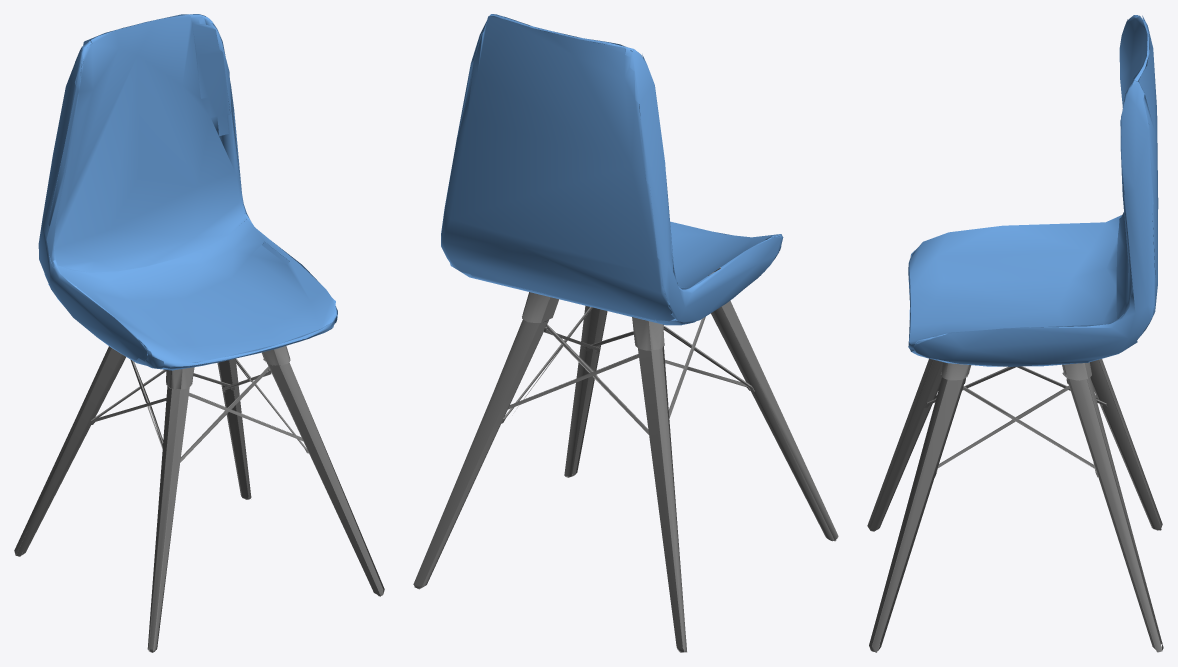
File: chair.glb
3 renders of one model, left to right at view 1: azimuth 30°, elevation 25°; view 2: azimuth 150°, elevation 25°; view 3: azimuth 270°, elevation 25°, orthographic. The views are drawn at different scales.
Parts seen in each view (by area): view 1: Object_2; view 2: Object_2; view 3: Object_2.
Boxes of the visible parts, x1,y1,x2,y2 form: Object_2: [14, 14, 384, 652]; Object_2: [413, 14, 838, 652]; Object_2: [867, 15, 1163, 652].
Bounding box in the file's own units: 2.48 × 5.09 × 2.49.
